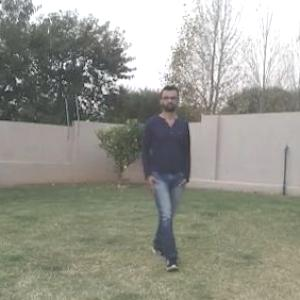follow: (146, 89, 186, 251)
